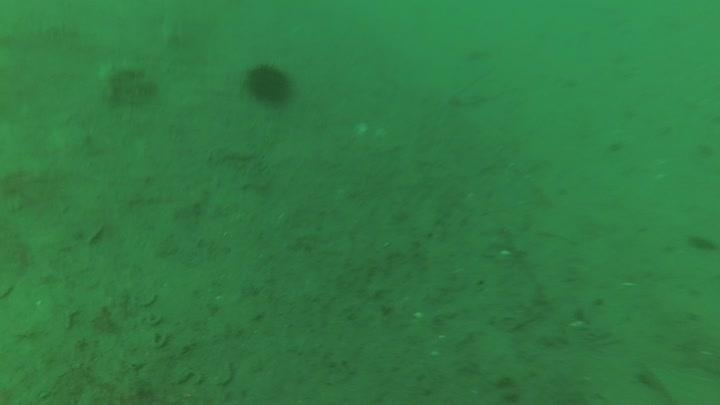echinus: (243, 60, 296, 108)
holothurian: (99, 59, 161, 107), (117, 75, 168, 109)
